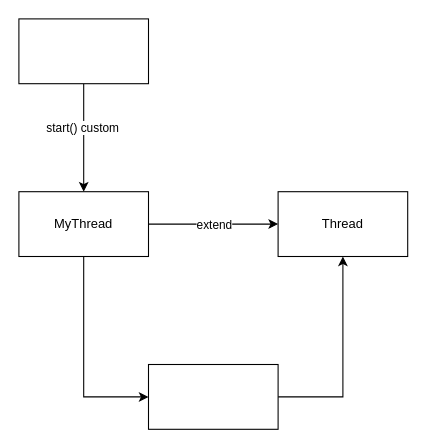
The diagram is 427 pixels wide and 448 high, and some of its shapes have lost their labels. The shapes that lost their labels are listed below. From the top down, each one's box as (x1, y1, x2, y2) in pixels, then its label:
(18, 18, 148, 84): Main Thread
(147, 363, 278, 429): start() -> run()
